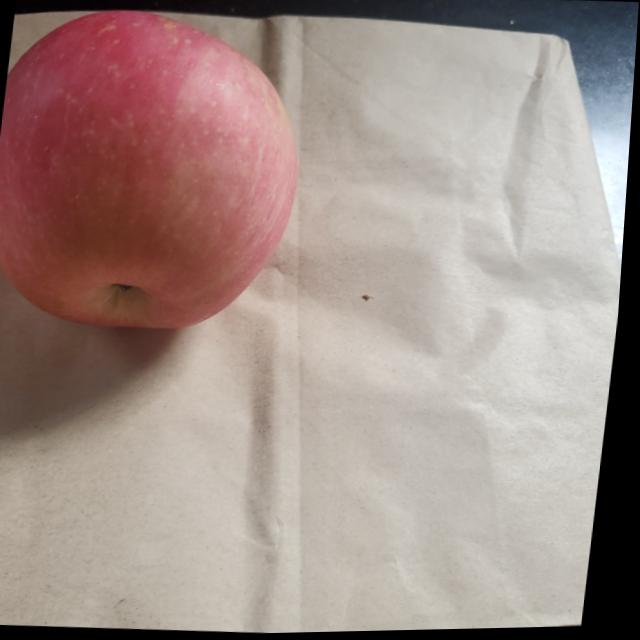apple: (0, 0, 317, 344)
